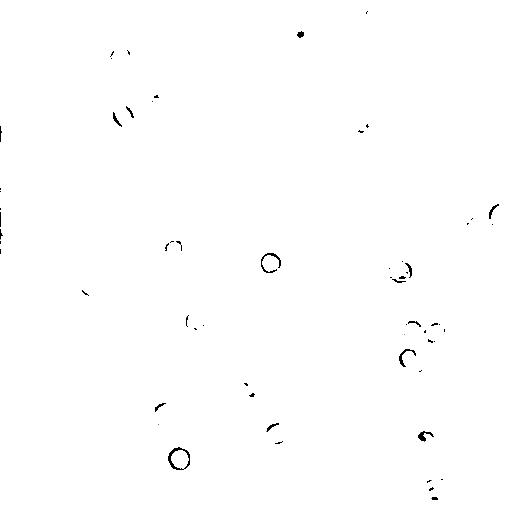micro-algae: (389, 1, 425, 40), (373, 70, 405, 113), (416, 475, 454, 507), (31, 139, 67, 171), (76, 218, 111, 250), (3, 482, 36, 512), (128, 281, 163, 309), (358, 0, 385, 30), (457, 216, 487, 242), (486, 200, 512, 230), (289, 19, 316, 47), (148, 400, 175, 428), (166, 444, 193, 472), (109, 39, 135, 68), (77, 275, 108, 298), (277, 347, 308, 370), (387, 259, 414, 285), (112, 102, 137, 130), (262, 422, 290, 447), (348, 110, 372, 135), (258, 250, 282, 275), (35, 304, 63, 325), (422, 321, 447, 344), (184, 307, 206, 331), (397, 346, 419, 370), (402, 318, 422, 341), (237, 382, 260, 402), (162, 238, 184, 258), (417, 428, 436, 445), (0, 230, 8, 254), (416, 367, 428, 382), (0, 126, 4, 140)
